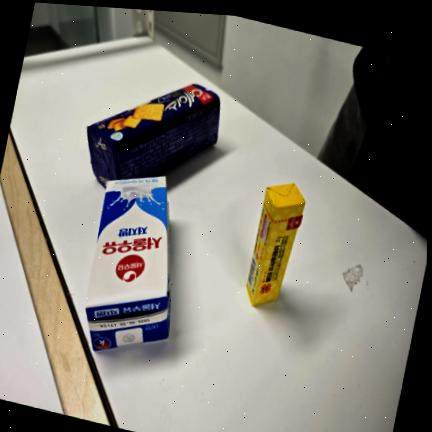cracker_ace: (87, 84, 220, 185)
gum_yellow: (247, 184, 305, 306)
milk_blue: (86, 177, 172, 351)
